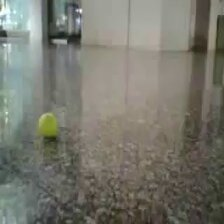tennis: (38, 113, 57, 136)
